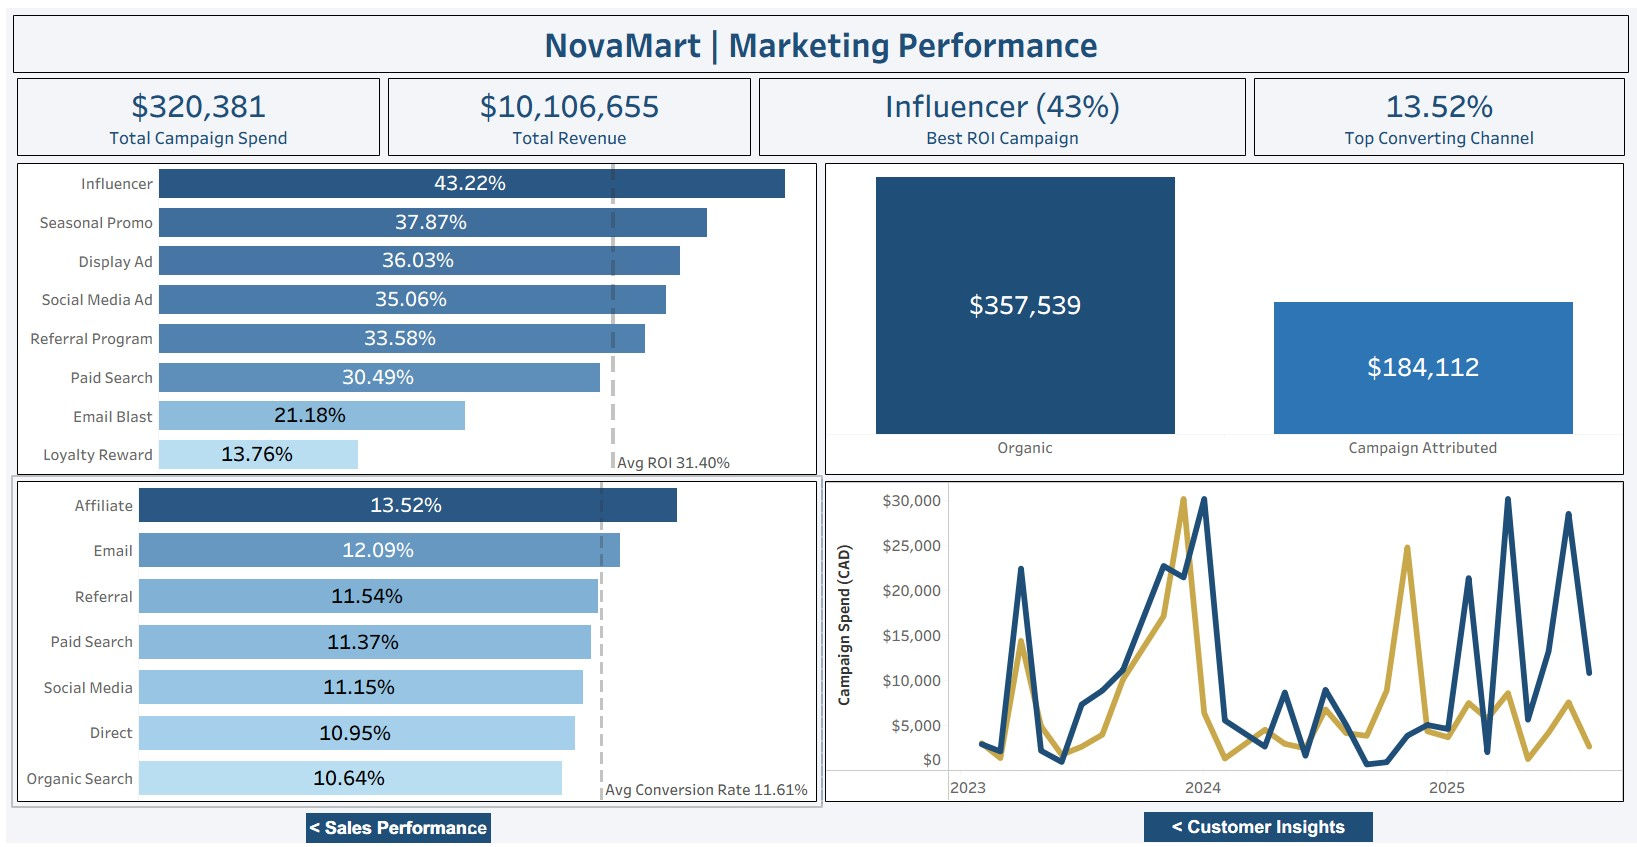

The page's visual inventory and layout, read from the dashboard file:
{"tool":"tableau","page":{"name":"Dashboard 3","canvas":[1000,1000],"units":"permille","ordinal":2},"visuals":[{"type":"text","box":[6.7,12.9,986.1,77.6]},{"type":"text","box":[9.2,87,225.2,101.1]},{"type":"text","box":[234.4,87,225.2,101.1]},{"type":"text","box":[459.6,87,300.5,101.1]},{"type":"text","box":[760.1,87,230.1,101.1]},{"type":"worksheet","title":"Campaign ROI by Type","mark":"Bar","rows":["campaign_type"],"cols":["Calculation_0700442381701121"],"box":[9.1,186.8,490.6,376]},{"type":"worksheet","title":"Campaign vs Organic Revenue","mark":"Bar","rows":["order_total_cad"],"cols":["Calculation_0700442386292738"],"box":[499.7,186.8,490,376]},{"type":"worksheet","title":"Channel Conversion Rate","mark":"Automatic","rows":["channel"],"cols":["Calculation_0700442389004291"],"box":[9.1,560.5,490.6,386.6]},{"type":"worksheet","title":" Monthly Campaign Spend vs Revenue","mark":"Automatic","rows":["spend_cad","revenue_generated_cad"],"cols":["start_date"],"box":[499.7,560.5,490,386.6]},{"type":"blank","box":[11.5,955.4,974.5,37.6]},{"type":"dashboard-object","box":[694.6,955.4,139,35.2]},{"type":"dashboard-object","box":[181.5,956.5,136,34.1]}]}

Visuals, with their boxes on the dashboard's canvas, which has no fixed pixel size, in thousandths of its width and height (x1, y1, x2, y2). These are canvas units, not pixel positions in the 1637x847 screenshot, which may show the page scaled, cropped or inside an application window:
text: BBox(7, 13, 993, 90)
text: BBox(9, 87, 234, 188)
text: BBox(234, 87, 460, 188)
text: BBox(460, 87, 760, 188)
text: BBox(760, 87, 990, 188)
"Campaign ROI by Type" worksheet (Bar marks): BBox(9, 187, 500, 563)
"Campaign vs Organic Revenue" worksheet (Bar marks): BBox(500, 187, 990, 563)
"Channel Conversion Rate" worksheet: BBox(9, 560, 500, 947)
" Monthly Campaign Spend vs Revenue" worksheet: BBox(500, 560, 990, 947)
blank: BBox(12, 955, 986, 993)
dashboard-object: BBox(695, 955, 834, 991)
dashboard-object: BBox(182, 956, 318, 991)
